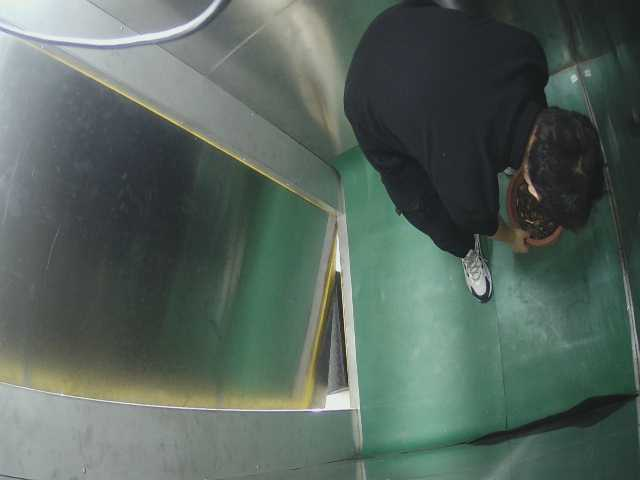flowerpot: (489, 165, 580, 250)
person: (340, 18, 604, 302)
